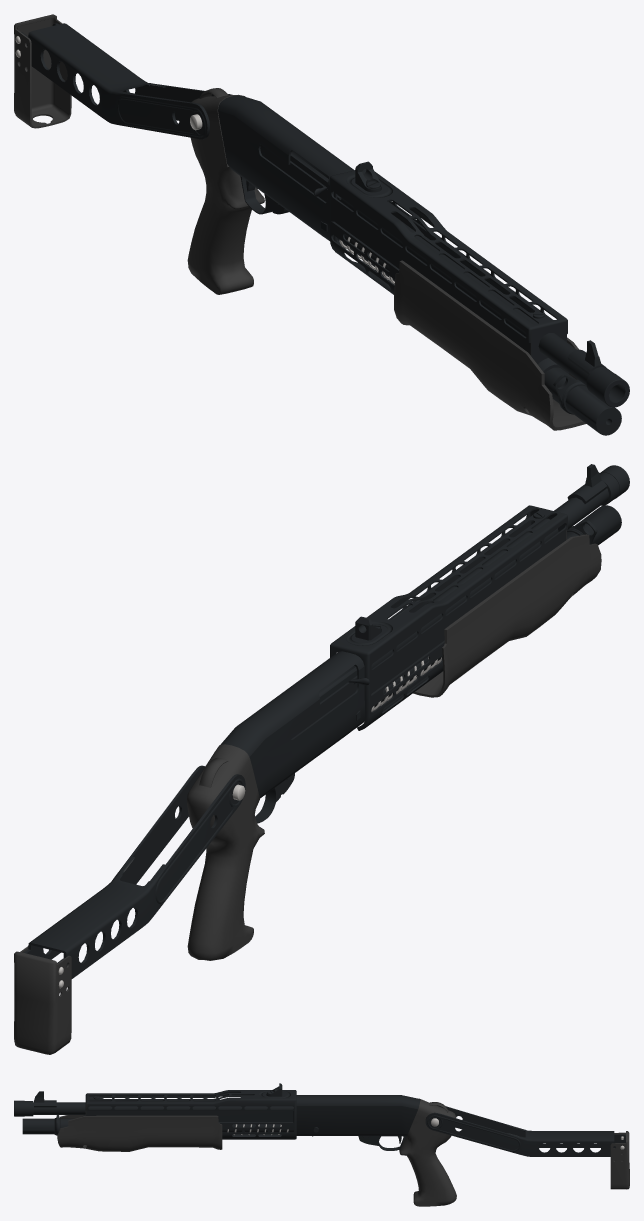
The model's file is SPAS_12.fbx.
3 renders of one model, top to bottom at view 1: azimuth 30°, elevation 25°; view 2: azimuth 150°, elevation 25°; view 3: azimuth 270°, elevation 25°, orthographic. The views are drawn at different scales.
Visible parts, largest first — view 1: MAIN, PUMP, STOCK.001, STOCK_B.001, EXTTRACTOR; view 2: MAIN, STOCK.001, PUMP, STOCK_B.001, EXTTRACTOR; view 3: MAIN, PUMP, STOCK.001, STOCK_B.001.
Boxes of the visible parts, left/top/right/bottom form: MAIN: left=187, top=88, right=629, bottom=435; PUMP: left=394, top=260, right=585, bottom=430; STOCK.001: left=15, top=23, right=232, bottom=139; STOCK_B.001: left=14, top=14, right=71, bottom=128; EXTTRACTOR: left=265, top=148, right=341, bottom=202; MAIN: left=187, top=464, right=629, bottom=960; STOCK.001: left=24, top=765, right=245, bottom=988; PUMP: left=413, top=534, right=601, bottom=697; STOCK_B.001: left=14, top=946, right=71, bottom=1054; EXTTRACTOR: left=290, top=665, right=369, bottom=738; MAIN: left=14, top=1083, right=456, bottom=1206; PUMP: left=57, top=1115, right=222, bottom=1151; STOCK.001: left=425, top=1105, right=625, bottom=1156; STOCK_B.001: left=610, top=1131, right=629, bottom=1189.
Size of the model in its own units: 6.37 by 25.19 by 119.
